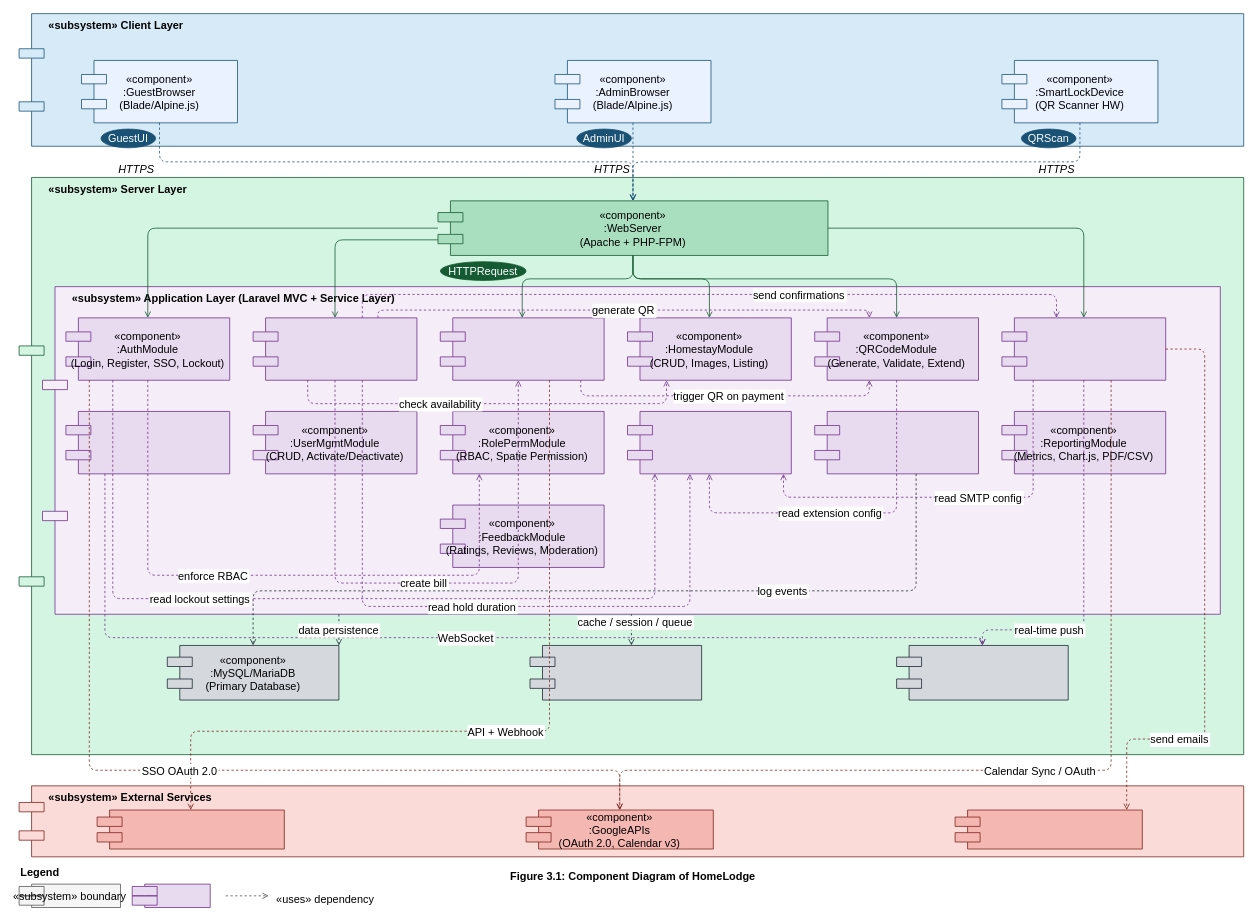
This 1257x921 diagram has some shape labels left out. The shapes that lost their labels are listed below. From the top down, each one's box as (x1, y1, x2, y2) in pixels, then its label:
(252, 317, 417, 380): «component» :BookingModule (Lifecycle, Availability, Cancel)
(440, 317, 604, 380): «component» :PaymentModule (Bill, Gateway, Receipt)
(1001, 317, 1166, 380): «component» :NotificationModule (In-app, Email, Calendar)
(65, 411, 230, 474): «component» :ChatModule (WebSocket, Messaging)
(627, 411, 791, 474): «component» :SettingsModule (SMTP, Security, Payment)
(814, 411, 979, 474): «component» :AuditLogModule (Spatie Activity Log)
(529, 645, 702, 700): «component» :Redis (Cache / Session / Queue)
(896, 645, 1068, 700): «component» :LaravelReverb (WebSocket Server)
(96, 809, 284, 849): «component» :PaymentGateway (Billplz / Stripe / Toyyibpay)
(954, 809, 1142, 849): «component» :SMTPServer (Email Delivery)
(131, 883, 210, 908): «component»
